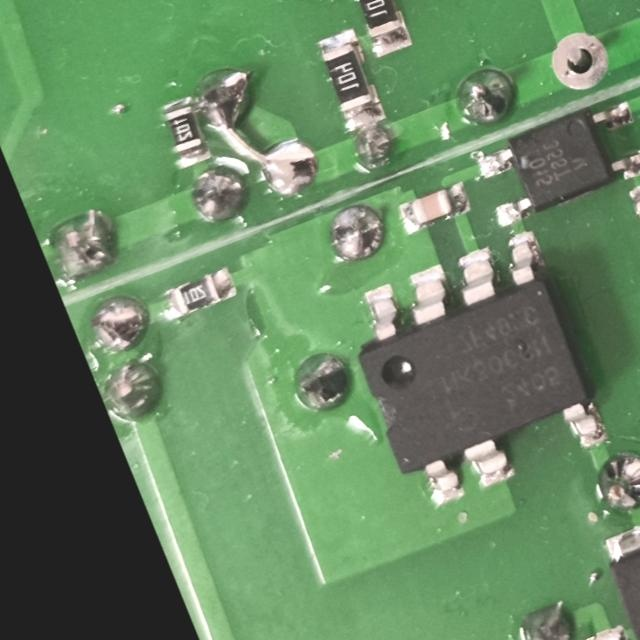chip-capacitor: (394, 180, 471, 234)
chip-resistor: (307, 22, 389, 135), (152, 91, 215, 173), (158, 261, 239, 323), (336, 0, 417, 61)
ic: (328, 222, 616, 518), (461, 88, 640, 232)
